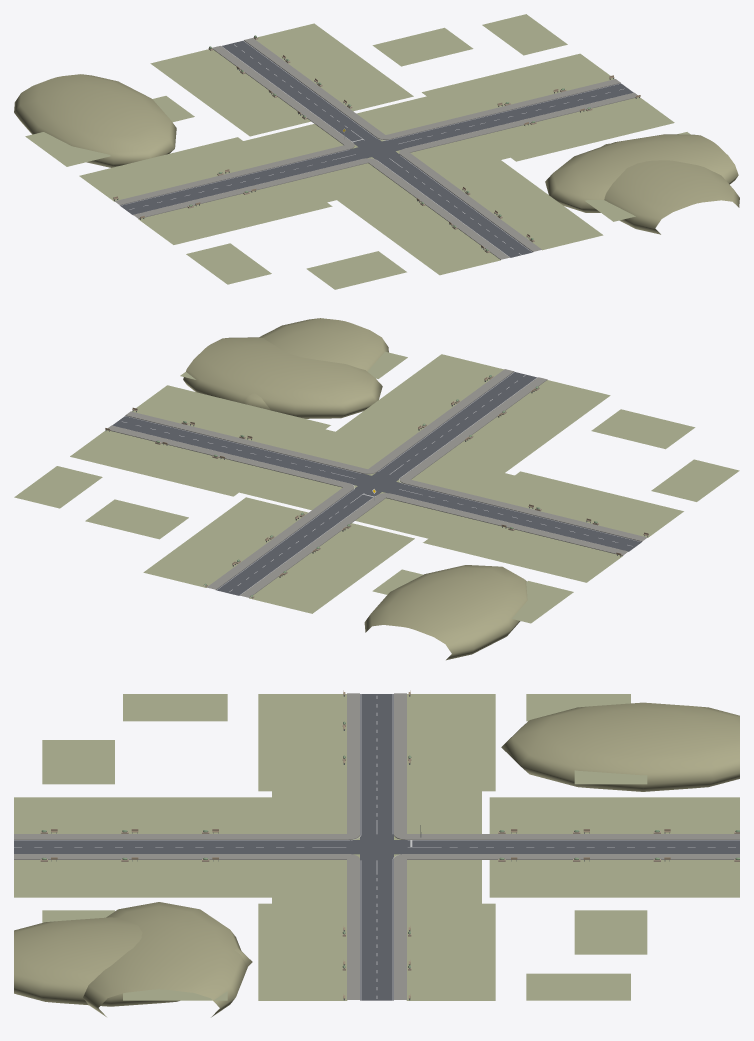
The picture shows the model from 3 angles, top to bottom: view 1: azimuth 30°, elevation 25°; view 2: azimuth 150°, elevation 25°; view 3: azimuth 270°, elevation 25°; orthographic projection. The views are drawn at different scales.
Visible parts, largest first — view 1: static; view 2: static; view 3: static.
Part boxes in pixels (<box>): static: <box>14,14,739,289</box>; static: <box>14,318,739,660</box>; static: <box>14,690,739,1017</box>.
Size of what is drawn, in the model's own units: 180 by 14.08 by 180.
Materials: 3 (2 with a texture image).
